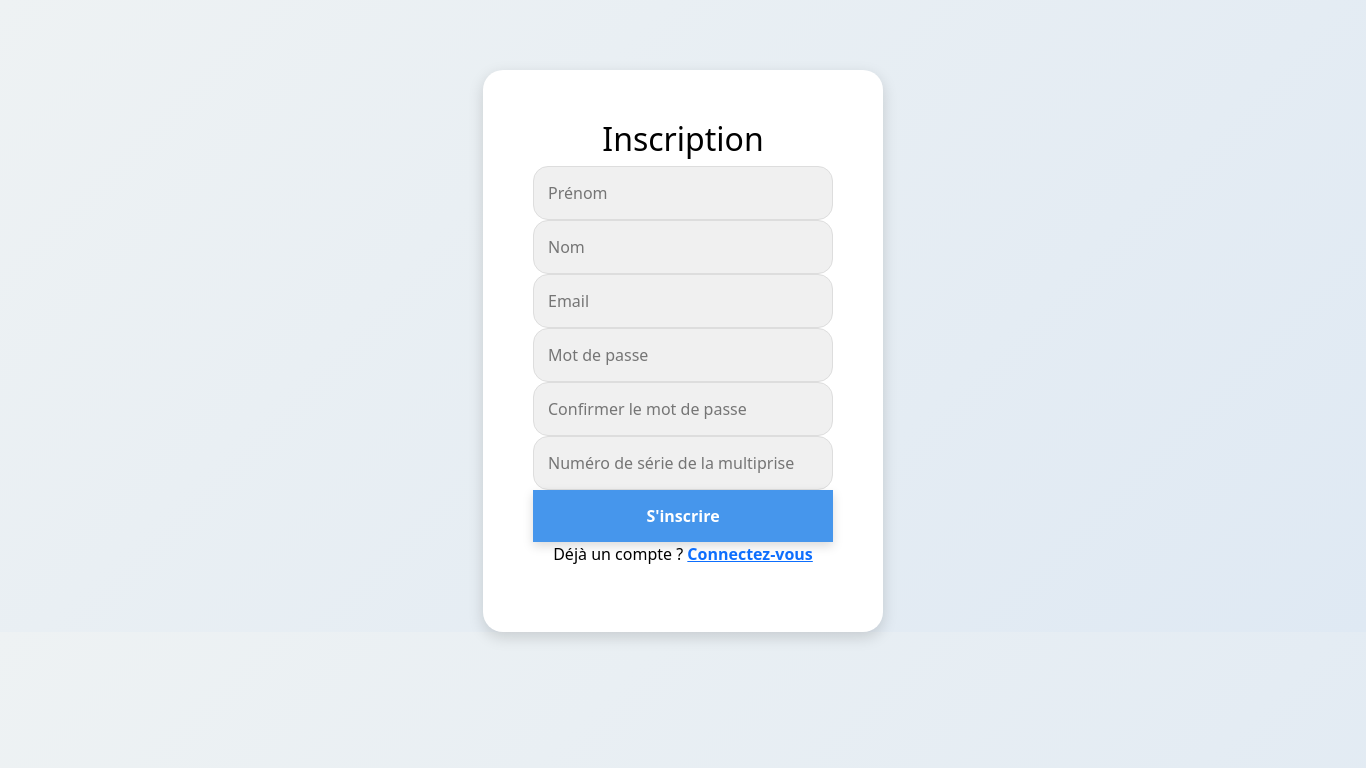
Test case: Register Component › affiche une erreur en cas d'échec de l'inscription
Type "John" into the field with placeholder "Prénom" at (683, 193), box [533,166,833,220]
Type "Doe" into the field with placeholder "Nom" at (683, 247), box [533,220,833,274]
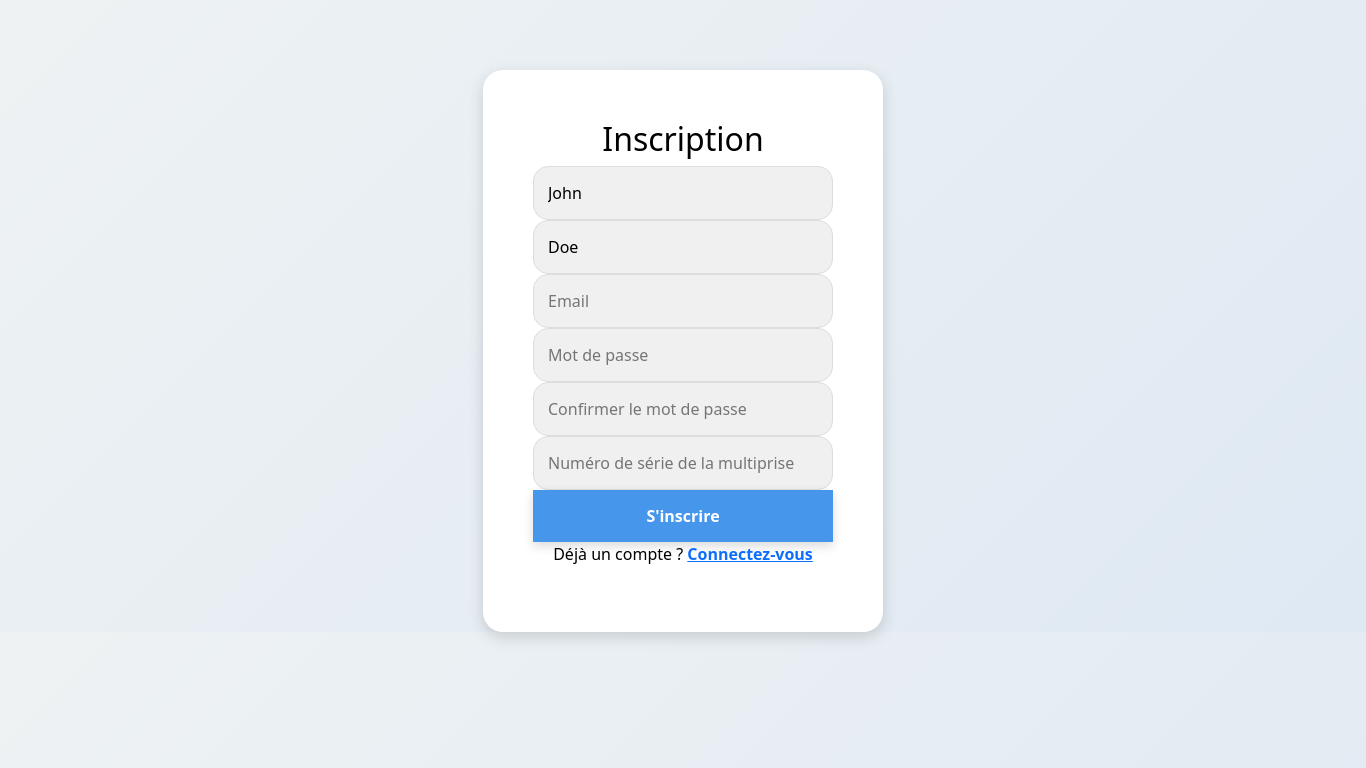
Type "john@example.com" into the field with placeholder "Email" at (683, 301), box [533,274,833,328]
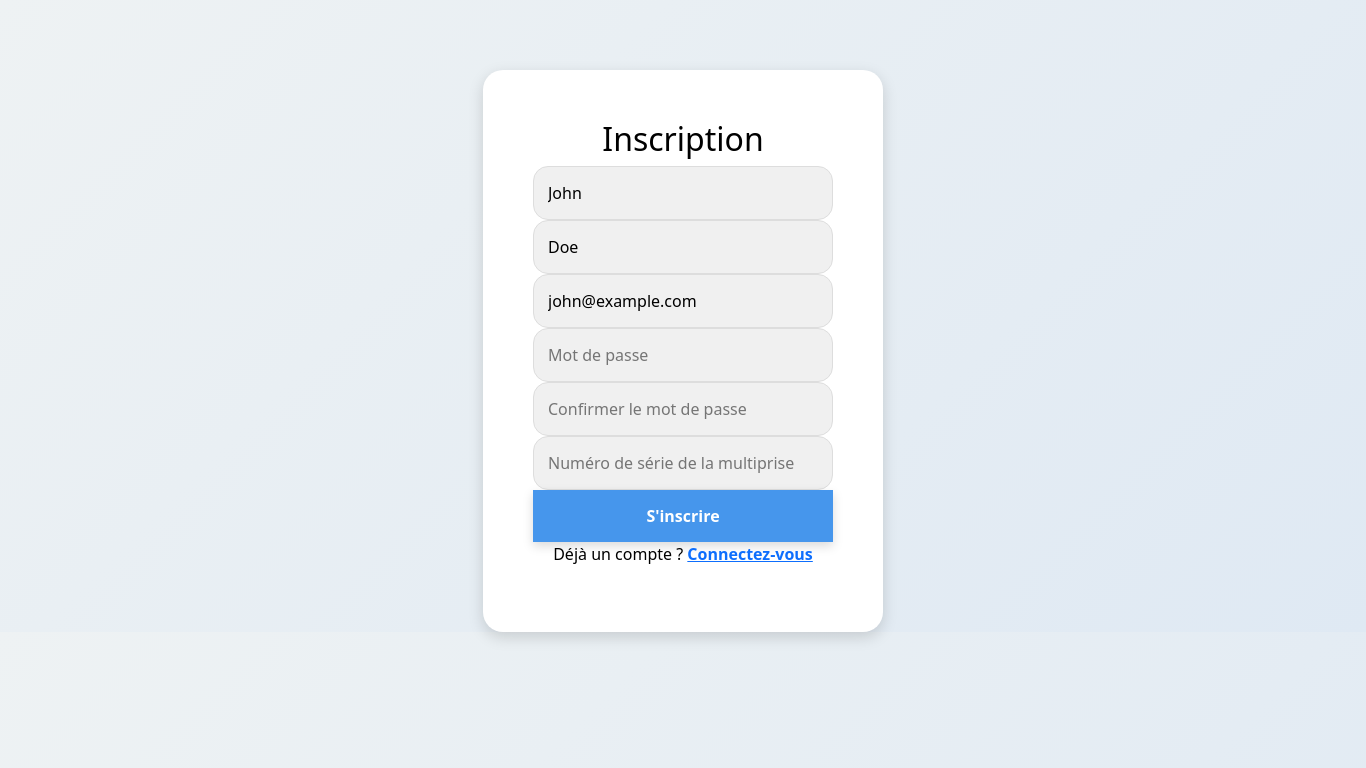
Type "password123" into the password field with placeholder "Mot de passe" at (683, 355), box [533,328,833,382]
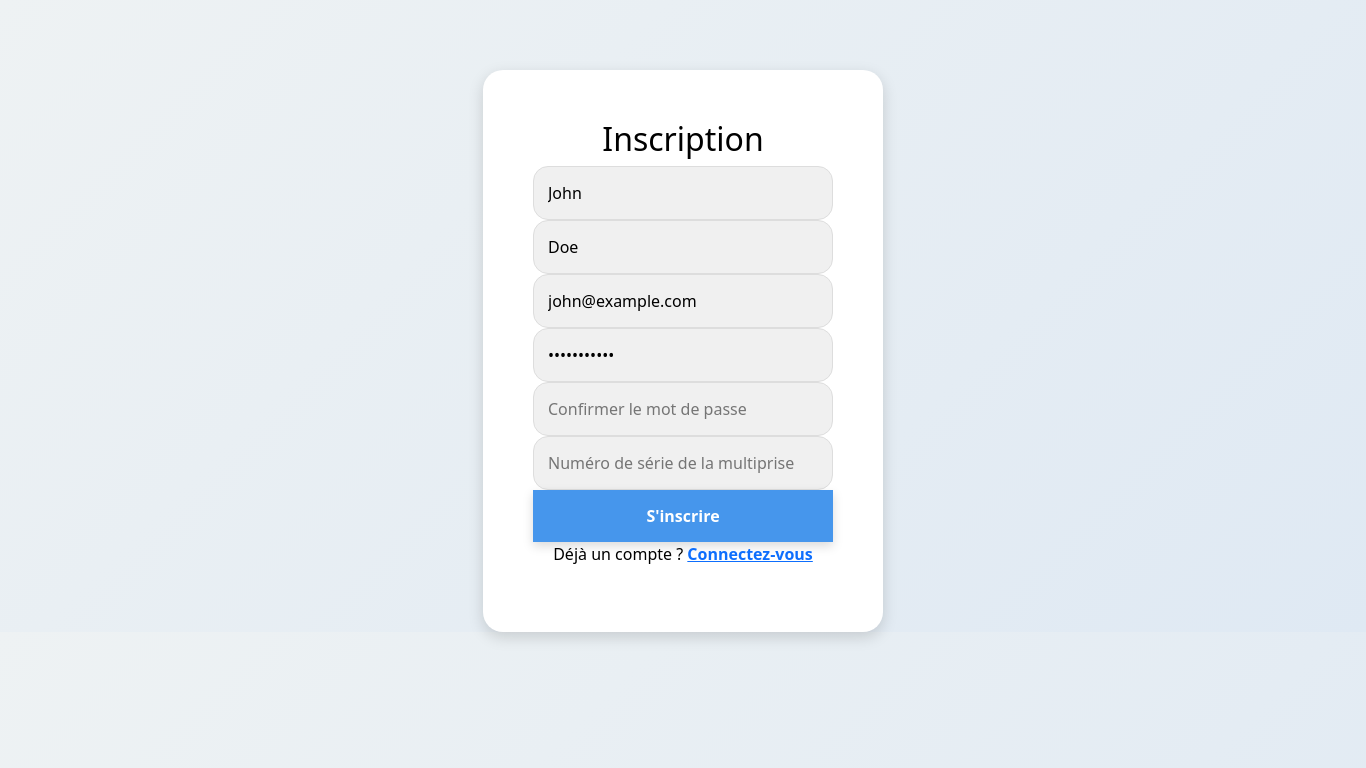
Type "password123" into the password field with placeholder "Confirmer le mot de passe" at (683, 409), box [533,382,833,436]
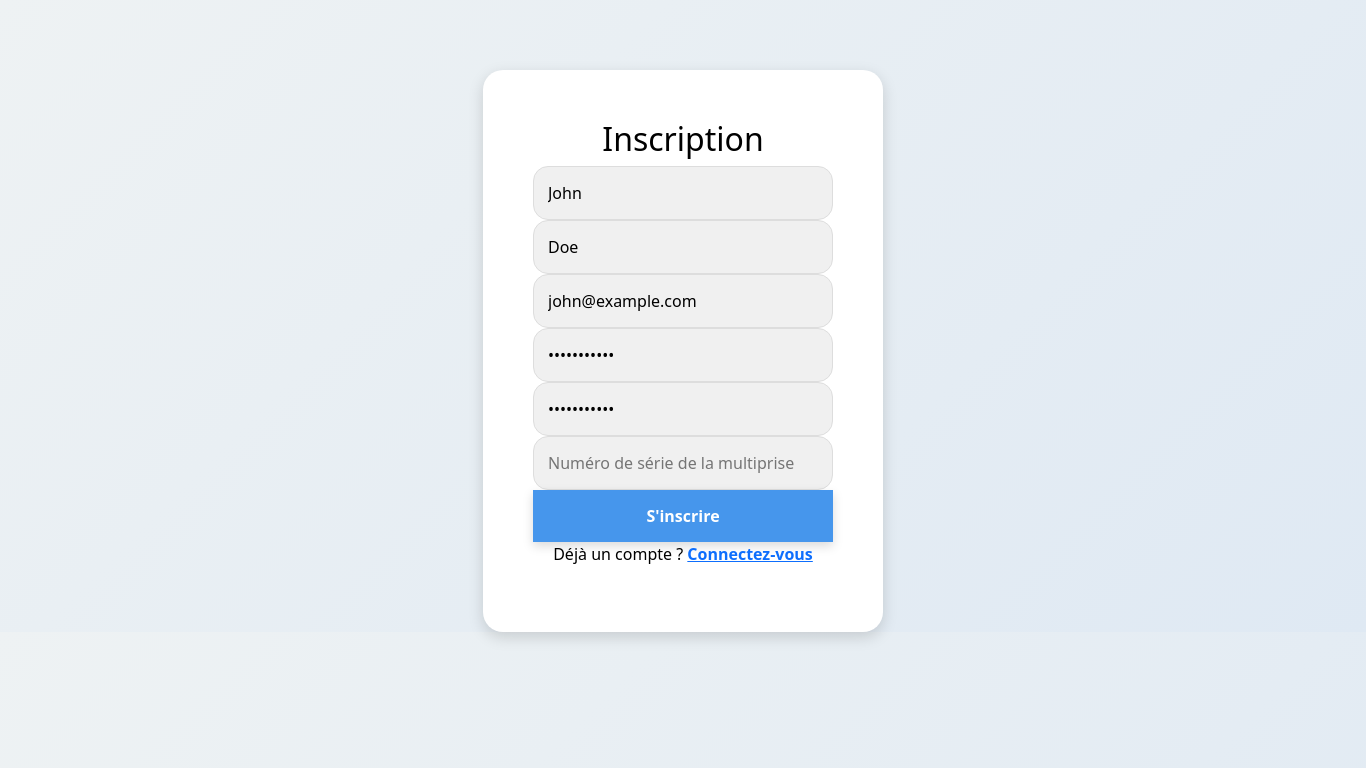
Type "ABC123" into the field with placeholder "Numéro de série de la multiprise" at (683, 463), box [533,436,833,490]
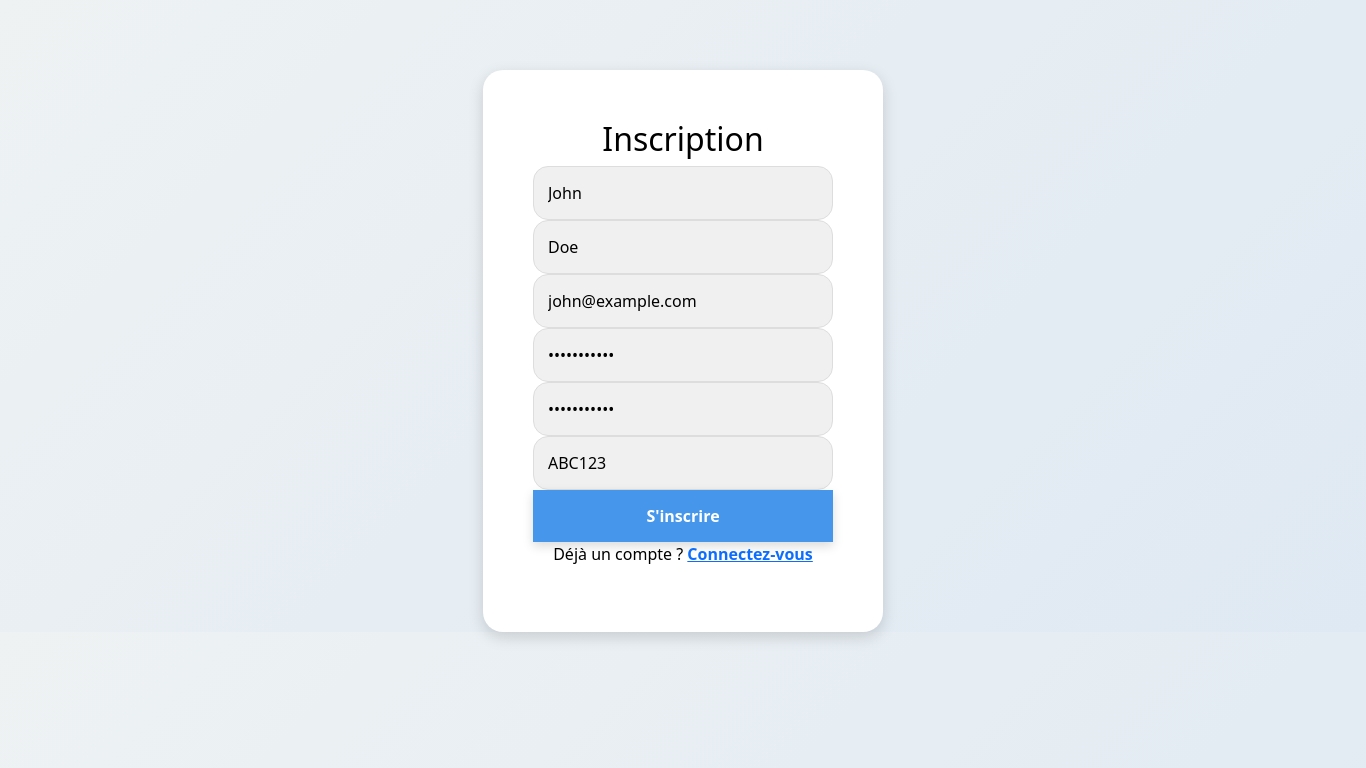
Click the button "S'inscrire" at (683, 516), box [533,490,833,542]
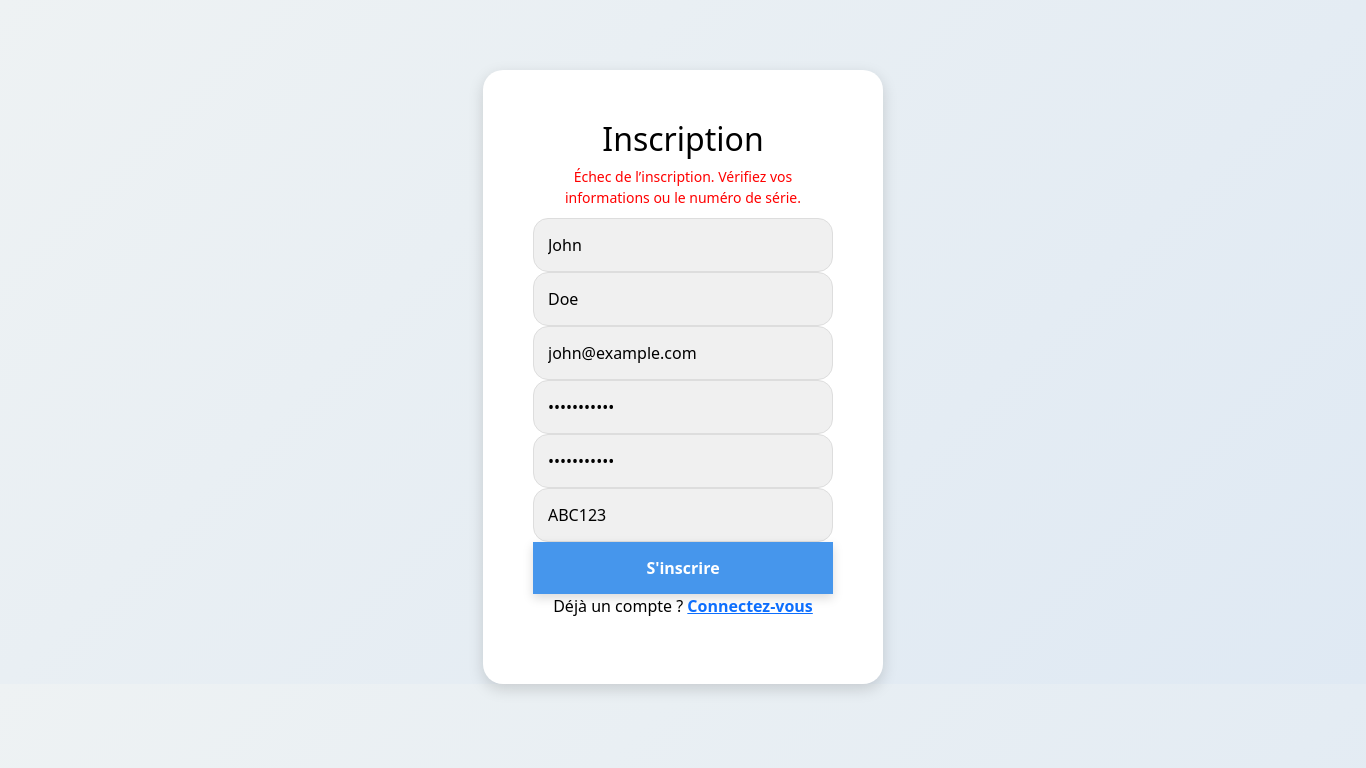
Expected: the text "Échec de l’inscription" is shown, [565,167,801,207]
